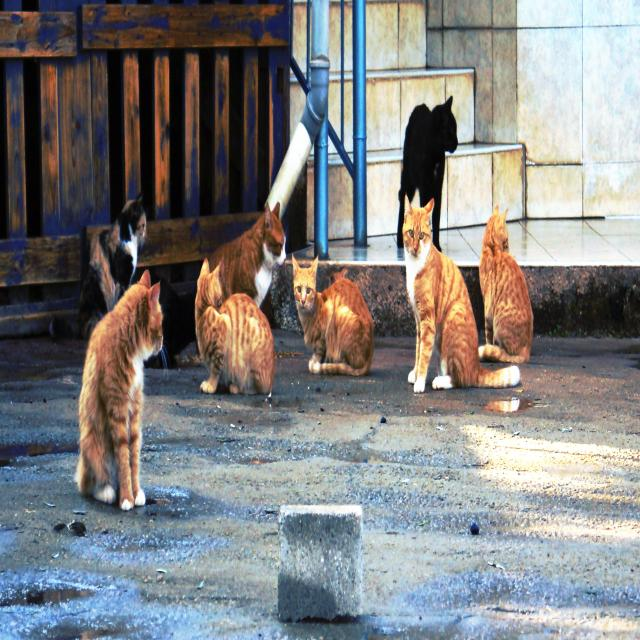cat: (402, 197, 520, 392), (76, 270, 162, 511), (195, 259, 275, 394), (292, 257, 374, 376), (79, 192, 146, 337), (398, 96, 458, 252), (479, 205, 532, 363), (209, 202, 286, 306)
